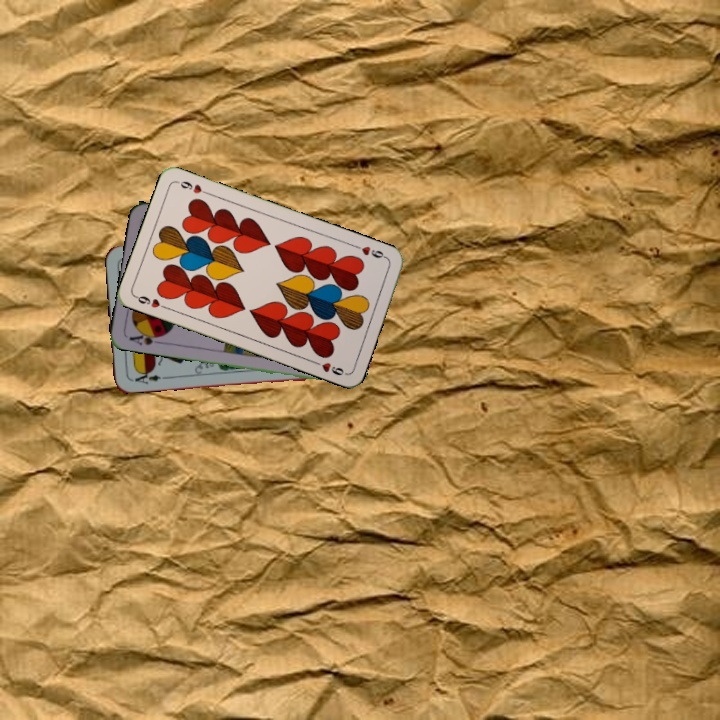EA: (127, 367, 168, 387)
H9: (131, 291, 171, 312), (351, 241, 390, 261)
SA: (125, 327, 166, 348)
